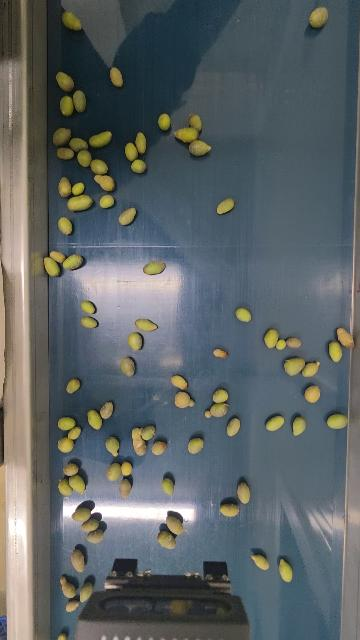Baby Potato: (306, 5, 330, 28), (91, 172, 118, 192), (62, 196, 95, 212), (284, 354, 306, 377), (133, 314, 159, 333), (140, 259, 169, 275), (130, 428, 146, 457), (57, 70, 76, 94), (89, 131, 113, 150), (187, 140, 213, 157), (157, 527, 175, 551), (70, 549, 87, 574), (62, 11, 81, 33), (326, 341, 344, 364), (263, 327, 279, 352), (50, 128, 71, 147), (337, 326, 355, 348), (60, 90, 74, 118), (279, 557, 293, 585), (106, 65, 123, 88), (119, 204, 136, 227), (250, 553, 270, 572), (187, 111, 205, 132), (43, 257, 61, 278), (85, 410, 103, 431), (69, 504, 90, 522), (205, 403, 230, 418), (90, 156, 109, 175), (175, 128, 199, 143), (301, 358, 321, 376), (104, 437, 121, 458), (58, 477, 74, 499), (55, 437, 75, 454), (69, 475, 86, 495), (175, 392, 195, 409), (74, 88, 87, 114), (60, 577, 76, 598), (327, 414, 349, 429), (167, 513, 182, 535), (85, 527, 104, 544), (171, 372, 188, 391), (215, 198, 235, 214), (57, 216, 73, 236), (266, 416, 286, 432), (62, 255, 83, 270), (219, 503, 240, 518), (291, 415, 306, 436), (135, 131, 148, 155), (68, 137, 90, 151), (237, 482, 251, 504), (81, 314, 100, 330), (305, 385, 321, 404), (57, 177, 72, 197), (58, 415, 78, 430), (212, 387, 229, 404), (61, 461, 79, 477), (188, 437, 204, 455), (99, 191, 114, 210), (77, 147, 91, 167), (107, 462, 121, 482), (122, 356, 135, 377), (80, 582, 93, 603), (151, 439, 167, 456), (236, 305, 251, 323), (212, 346, 230, 361), (100, 400, 114, 419), (227, 418, 241, 437), (65, 377, 80, 394), (125, 143, 139, 161), (54, 147, 75, 159), (129, 333, 143, 351), (119, 479, 131, 499), (71, 180, 85, 197), (81, 298, 95, 315), (158, 114, 171, 132), (81, 519, 100, 531), (66, 424, 81, 439), (131, 160, 147, 174), (50, 250, 66, 264), (283, 337, 303, 348), (120, 460, 132, 477), (162, 479, 175, 494), (142, 426, 154, 441), (66, 601, 79, 613), (277, 337, 287, 352), (58, 634, 68, 640)
